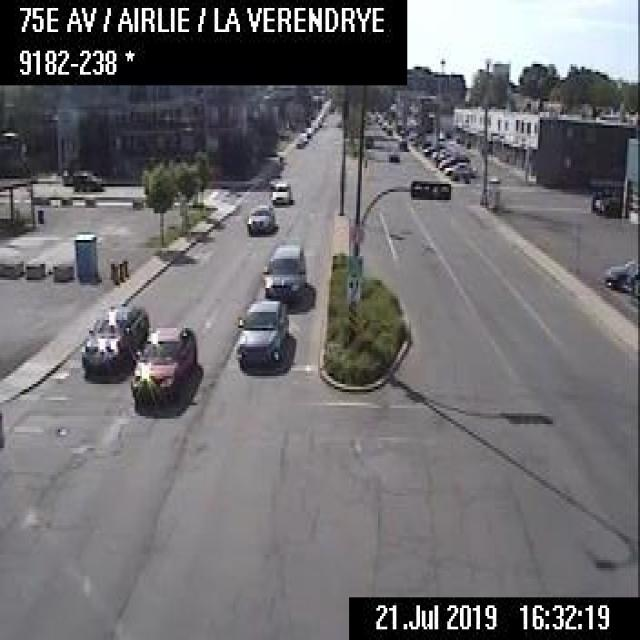construction: (108, 258, 114, 278), (113, 262, 118, 283), (118, 260, 123, 280), (122, 258, 127, 277)
vehicle: (79, 300, 149, 382), (129, 324, 196, 405), (235, 300, 287, 366), (260, 240, 305, 300), (600, 256, 637, 289), (246, 200, 274, 235), (72, 168, 104, 192), (270, 178, 290, 205), (443, 160, 474, 176), (437, 152, 468, 168), (385, 147, 399, 163), (396, 136, 407, 150), (294, 136, 304, 147)
